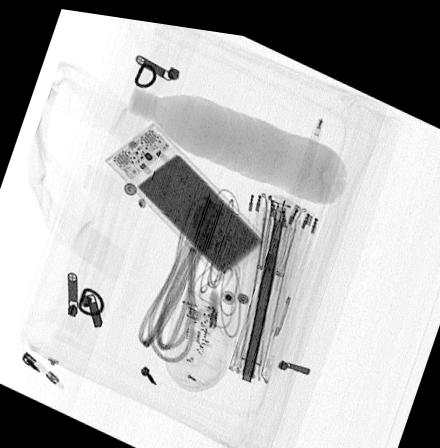Powerbank: (103, 119, 268, 272)
